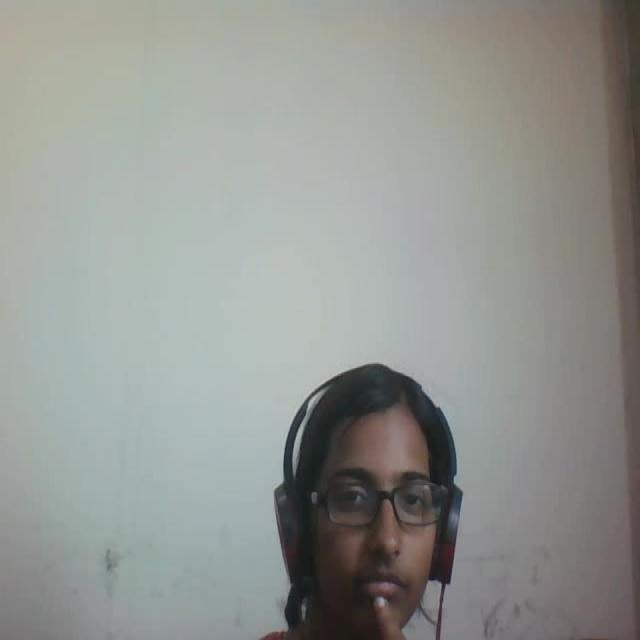Bored: (267, 339, 522, 640)
